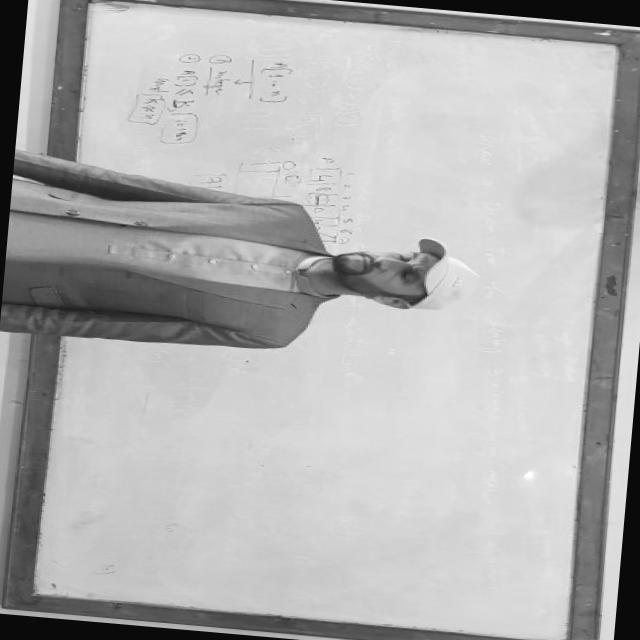Instructor: (0, 168, 496, 358)
White-board: (19, 0, 640, 640)
